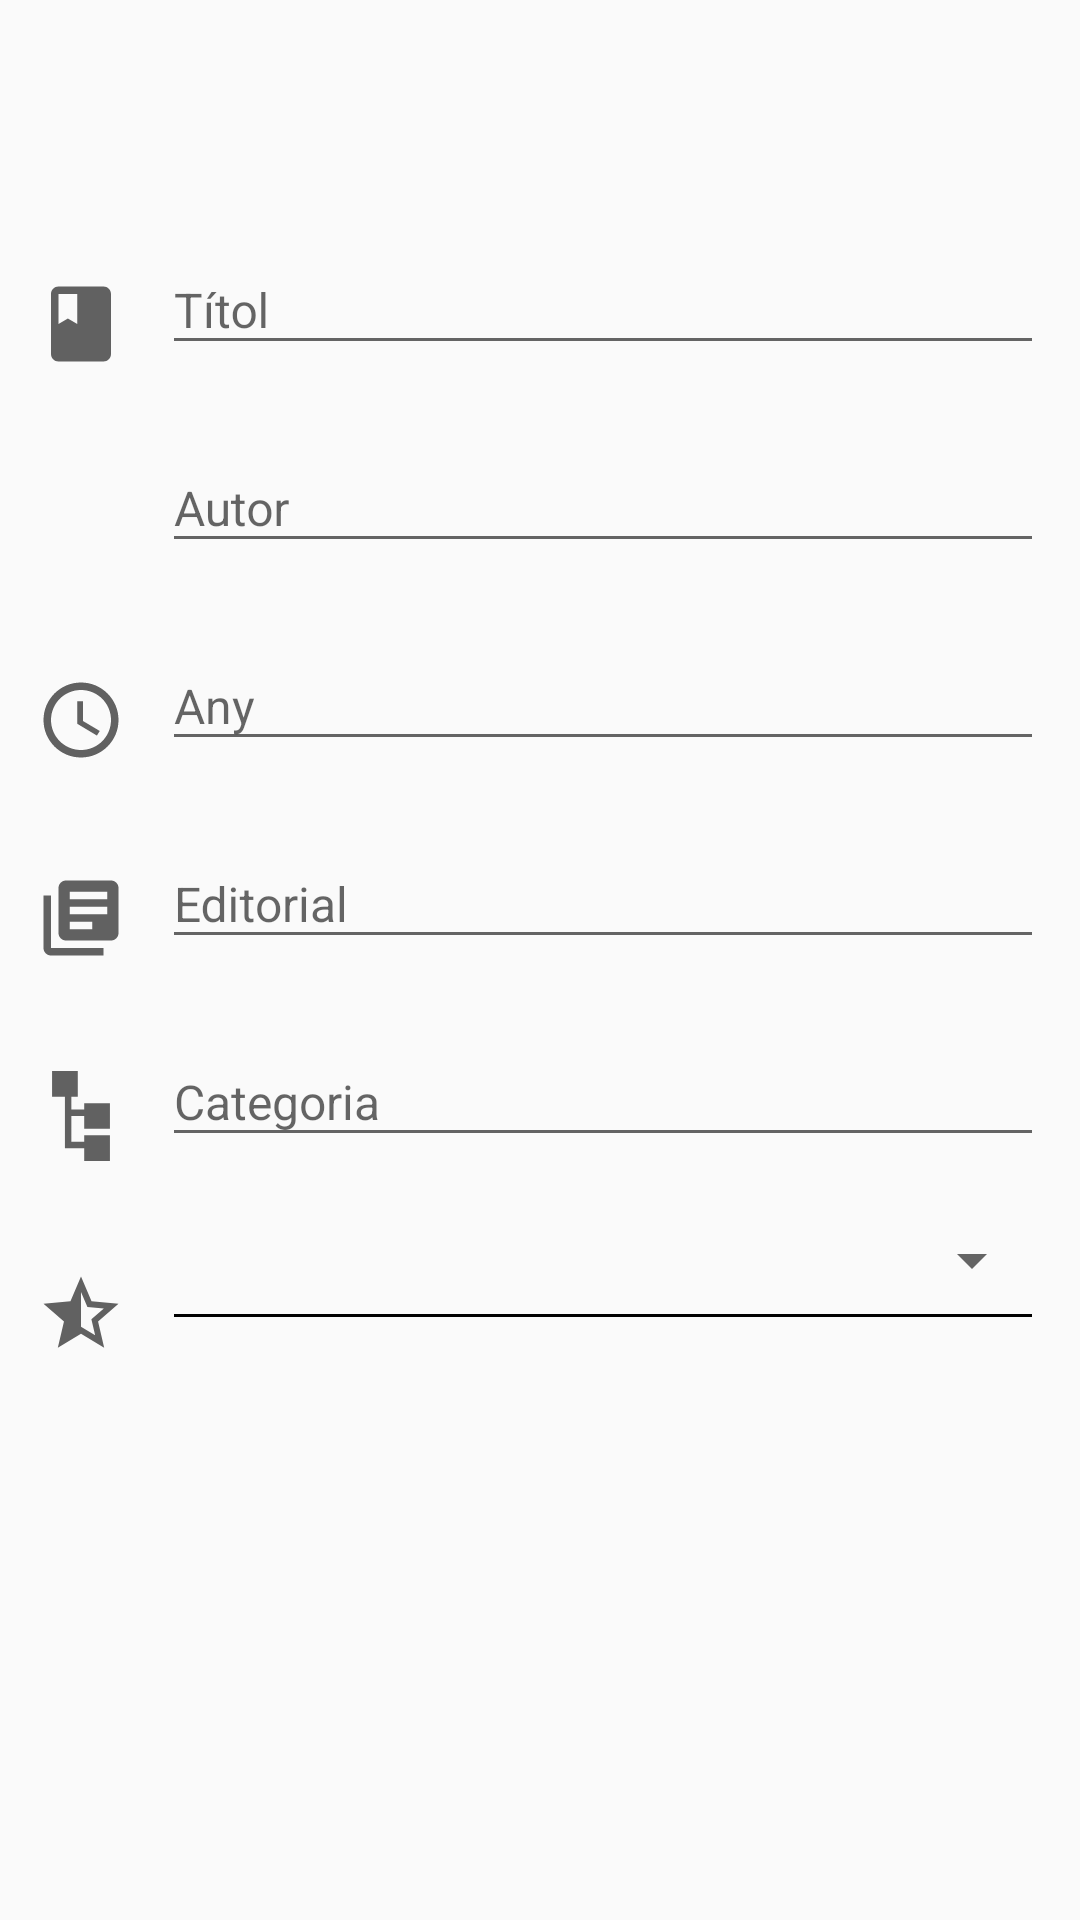

Screen size 1080*1920. Icon name, then its box in pixels as (x1, y1, x2, y2):
clock: (43, 682, 119, 758)
publisher: (43, 880, 119, 956)
Valoració personal: (44, 1277, 118, 1348)
